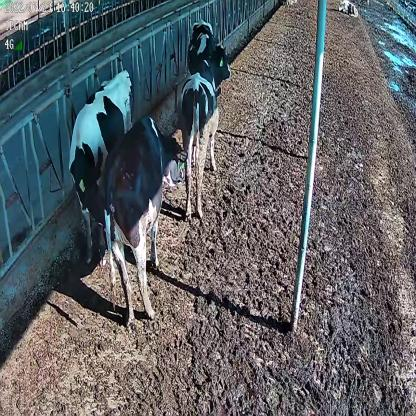cow: (103, 116, 185, 320), (68, 67, 132, 264), (180, 41, 230, 223), (337, 0, 360, 20)
